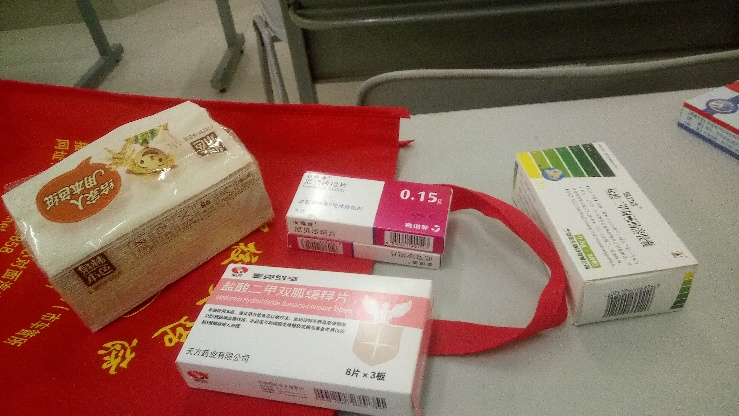pillbox: (179, 265, 434, 413), (513, 141, 694, 326), (287, 172, 447, 247), (286, 231, 441, 271)
